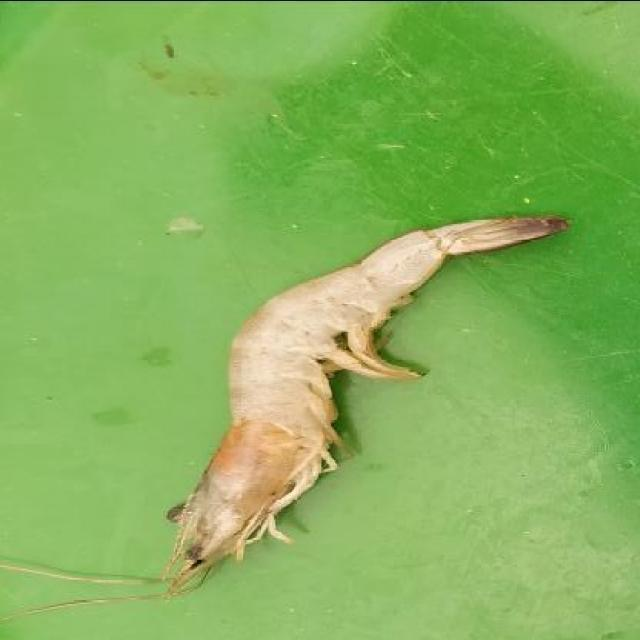shrimp: (172, 219, 546, 583)
